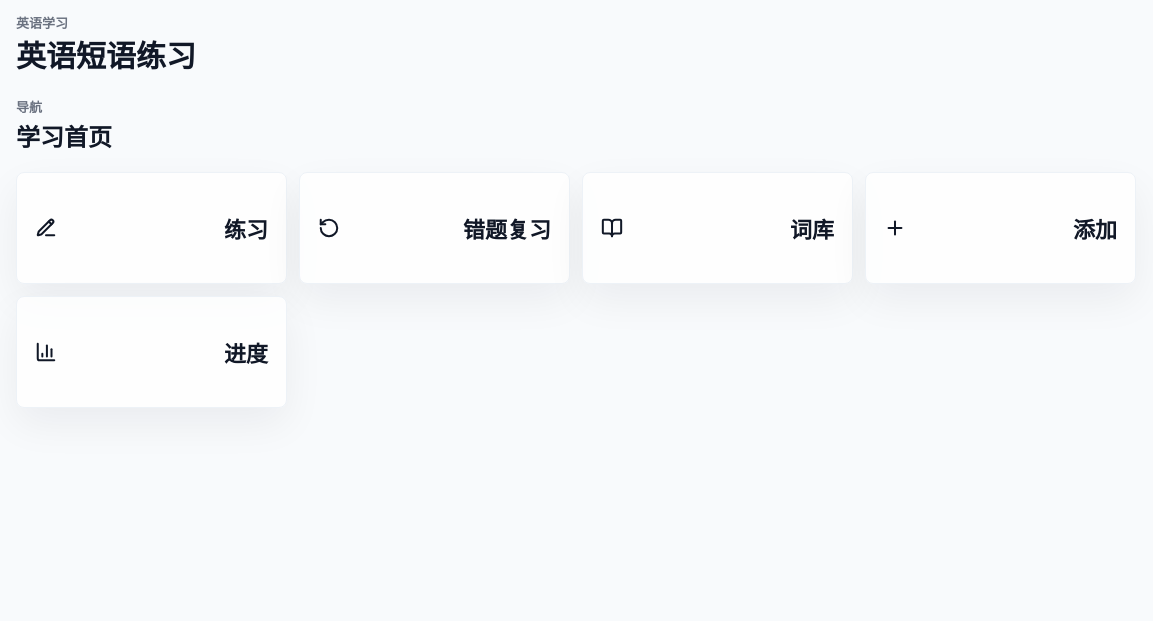
App › navigates from home into sentence fill-in practice
Click the button "练习" at (246, 230), box [16, 172, 287, 284]
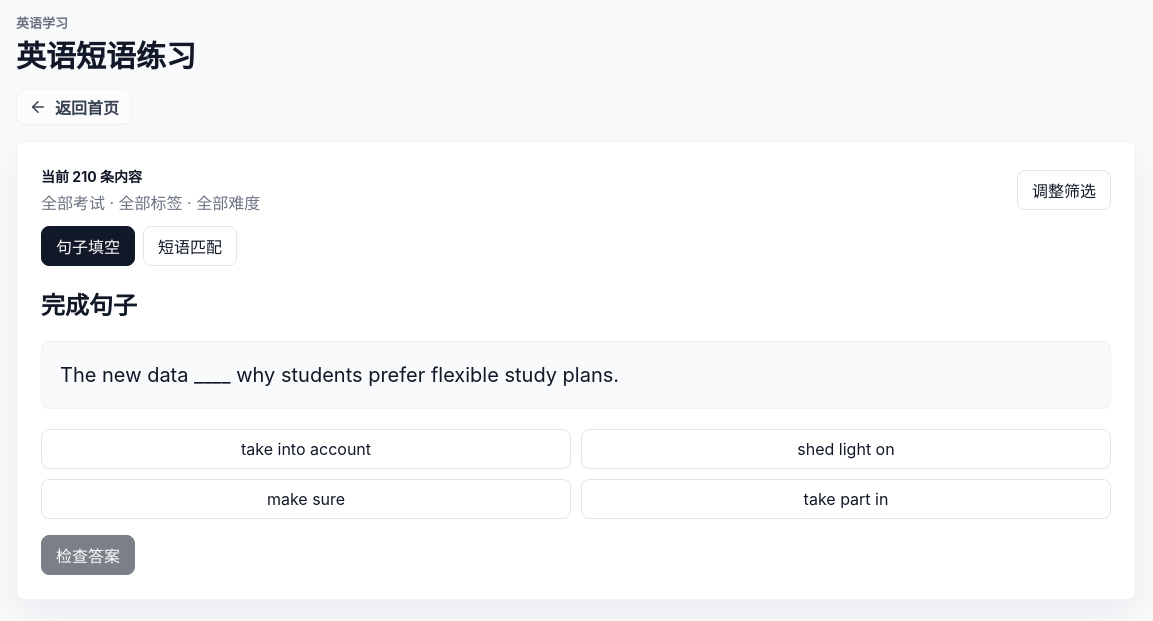
Expected: the heading "完成句子" is shown, [41, 291, 137, 320]
